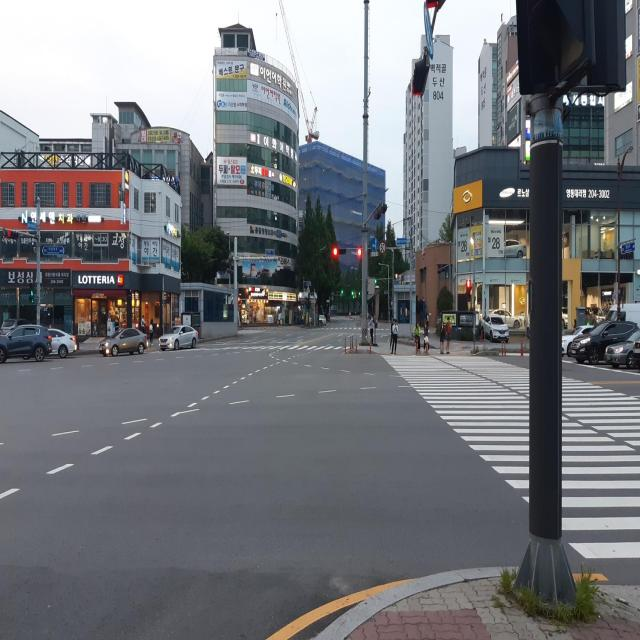횡단보도: (377, 351, 640, 563)
